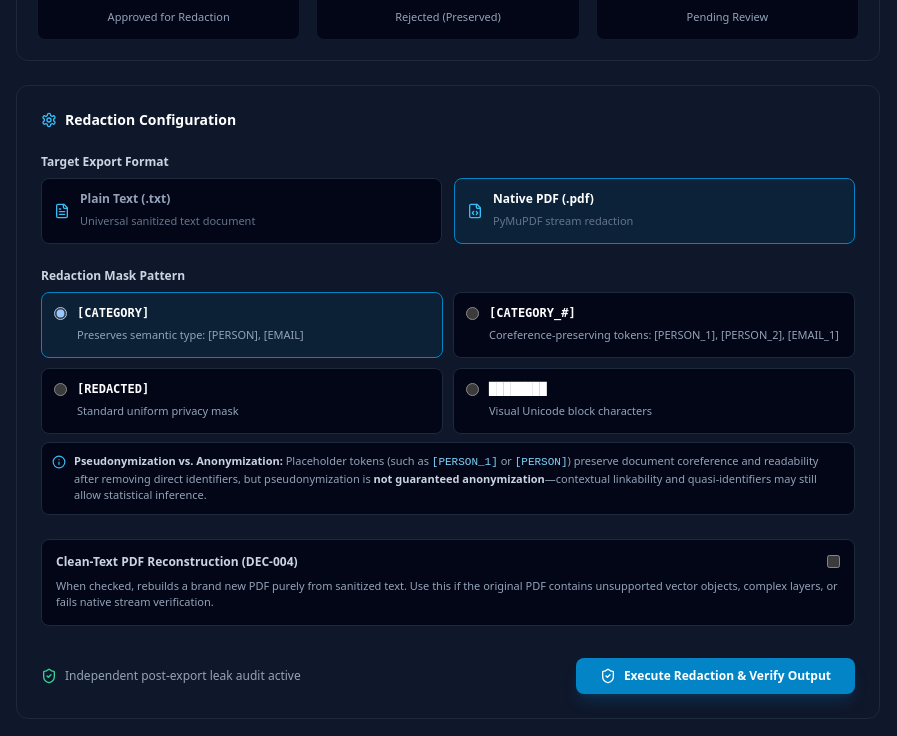
it: ExportView Page › triggers redaction execution and displays verification audit report
The image size is (897, 736).
(page scrolled)
Expected: the text "Execute Redaction & Verify Output" is shown, [624,668,831,684]
Click the button "Execute Redaction & Verify Output".
click(715, 676)  # box [576,658,855,694]
(page scrolled)
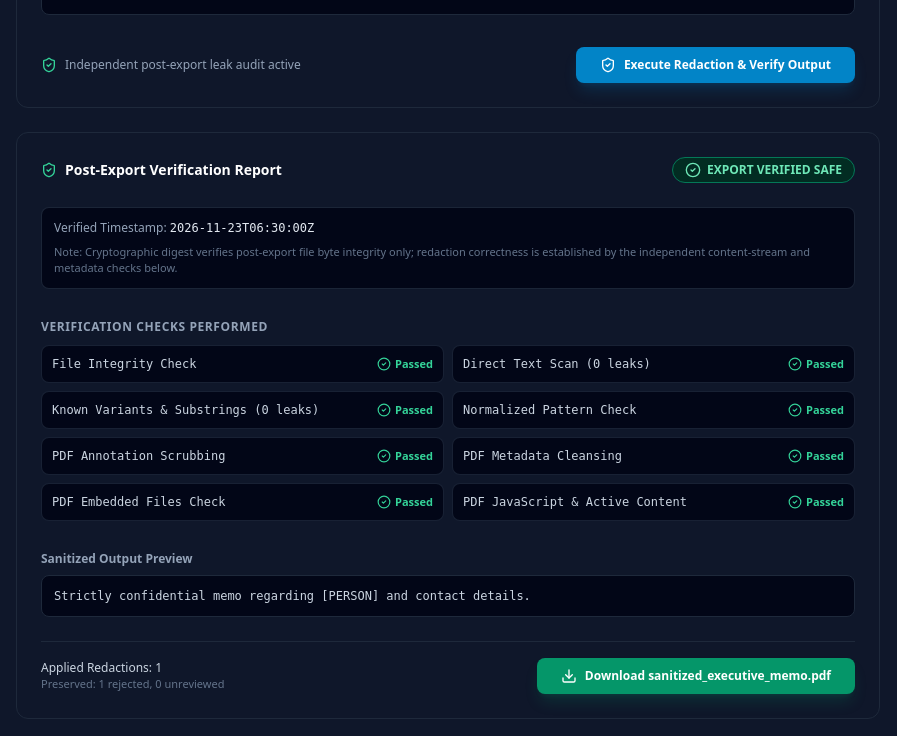
Result: the heading "Post-Export Verification Report" is shown at [41,160,282,180]
Result: the text "EXPORT VERIFIED SAFE" is shown at [672,156,855,182]
Result: the text "Direct Text Scan (0 leaks)" is shown at [463,356,651,372]
